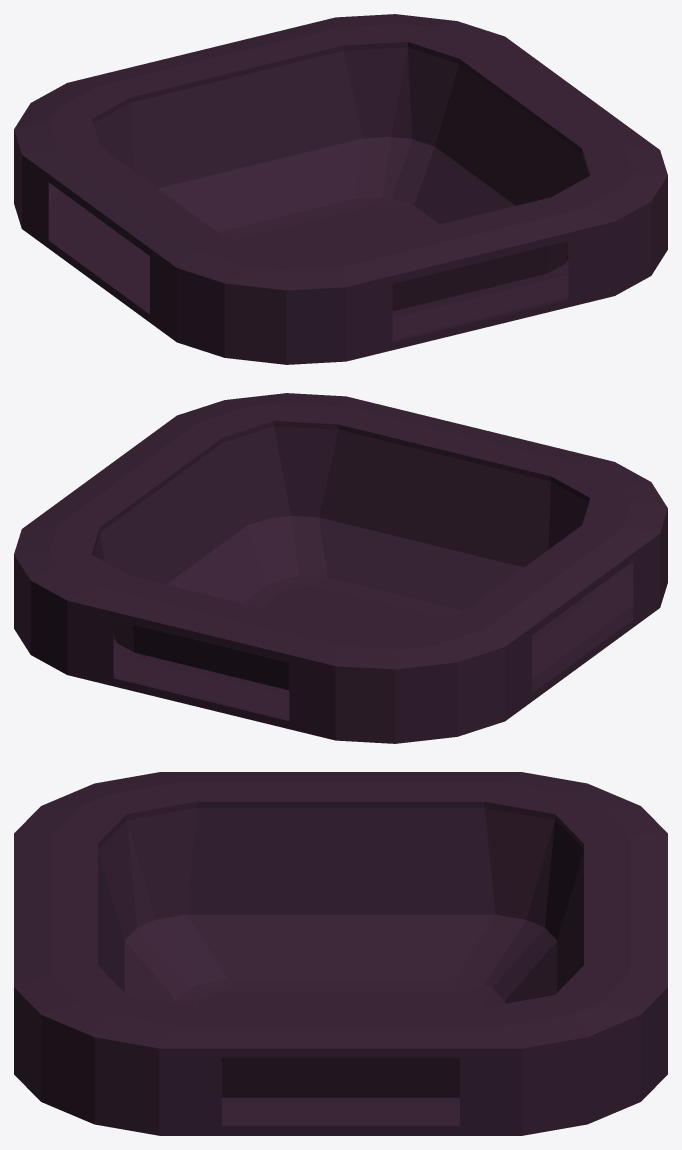
The model's file is plataformaBorde.fbx.
3 views of the same model, one above another, from view 1: azimuth 30°, elevation 25°; view 2: azimuth 150°, elevation 25°; view 3: azimuth 270°, elevation 25° (orthographic). The views are drawn at different scales.
Visible parts, largest first — view 1: PlataformaBorde; view 2: PlataformaBorde; view 3: PlataformaBorde.
Boxes of the visible parts, x1=… form: PlataformaBorde: x1=14, y1=14, x2=667, y2=364; PlataformaBorde: x1=14, y1=393, x2=667, y2=743; PlataformaBorde: x1=14, y1=772, x2=667, y2=1135.
Bounding box in the file's own units: 300 × 74.27 × 300.
Materials: 1 (1 with a texture image).
